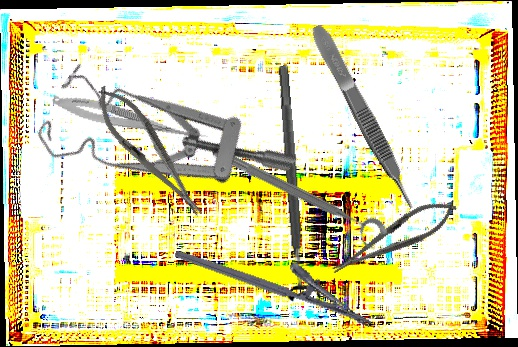Fixation Ring: (203, 141, 392, 254), (265, 63, 323, 303)
Micro Scissor: (49, 90, 211, 148)
Needle Holder: (173, 222, 384, 330), (84, 76, 215, 228), (324, 190, 464, 285)
Speculum: (24, 20, 300, 274)
Tissue Forceps: (307, 21, 420, 214)
